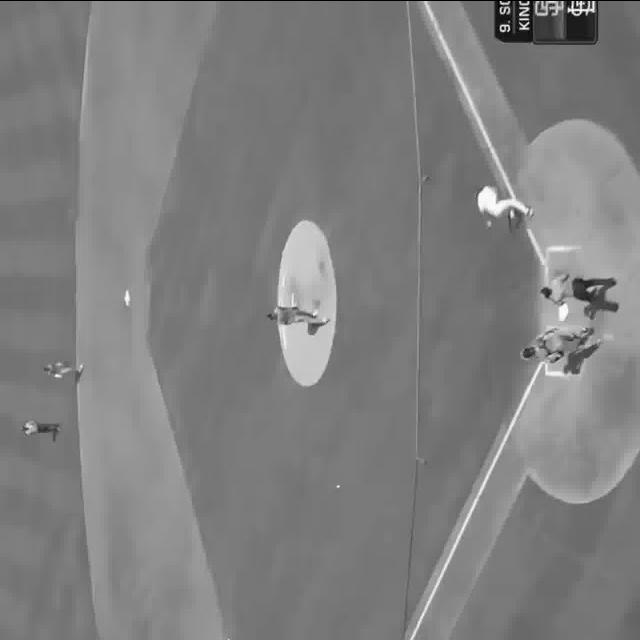base: (556, 302, 572, 322), (124, 287, 132, 307)
baseball: (336, 483, 341, 488)
